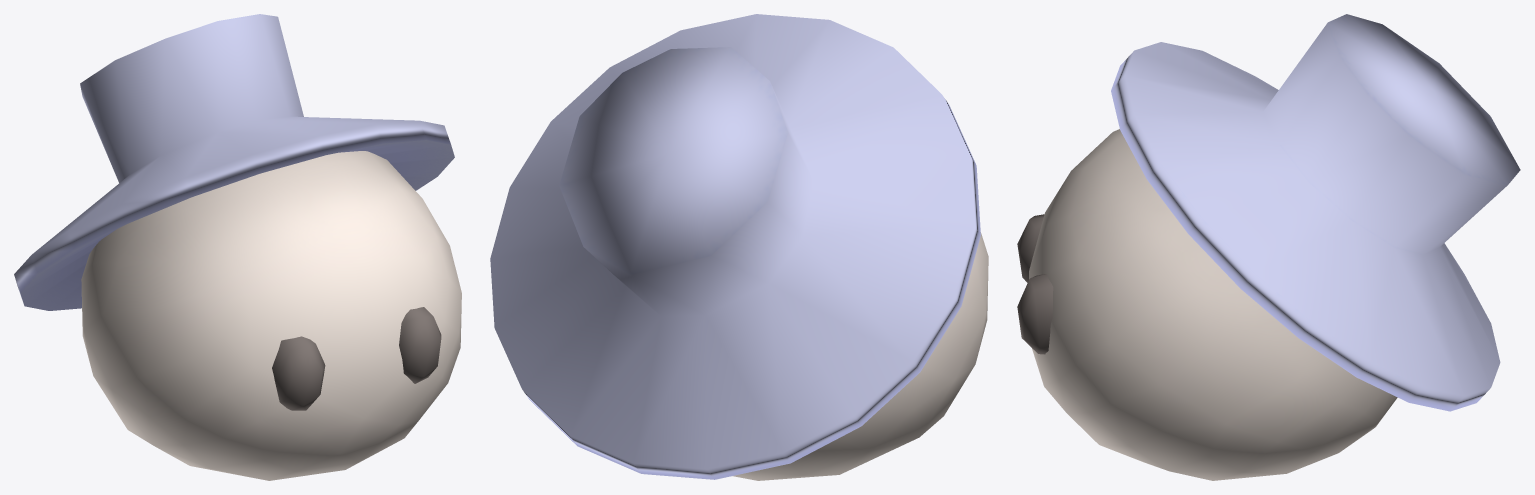
The model's file is MarshmallowHead.fbx.
3 views of the same model, side by side, from view 1: azimuth 30°, elevation 25°; view 2: azimuth 150°, elevation 25°; view 3: azimuth 270°, elevation 25° (orthographic). The views are drawn at different scales.
Parts seen in each view (by area): view 1: pCylinder1; view 2: pCylinder1; view 3: pCylinder1.
Part boxes in pixels (<box>): pCylinder1: <box>14,14,461,480</box>; pCylinder1: <box>490,14,988,480</box>; pCylinder1: <box>1017,14,1520,480</box>.
Bounding box in the file's own units: 17.11 × 16.43 × 17.54.
